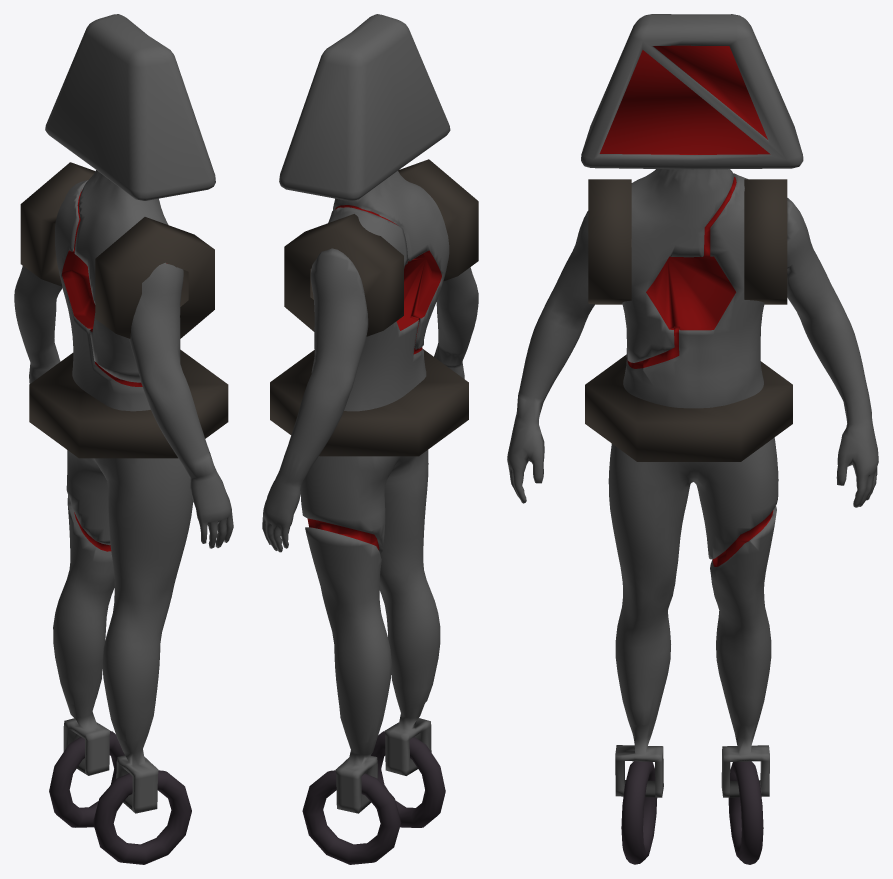
File: tallbot.fbx
3 renders of one model, left to right at view 1: azimuth 30°, elevation 25°; view 2: azimuth 150°, elevation 25°; view 3: azimuth 270°, elevation 25°, orthographic. The views are drawn at different scales.
Parts seen in each view (by area): view 1: tallboi.001; view 2: tallboi.001; view 3: tallboi.001.
Part boxes in pixels (x1=…): tallboi.001: x1=14, y1=14, x2=233, y2=864; tallboi.001: x1=262, y1=14, x2=478, y2=864; tallboi.001: x1=507, y1=14, x2=878, y2=864.
Bounding box in the file's own units: 53.91 × 280 × 111.
